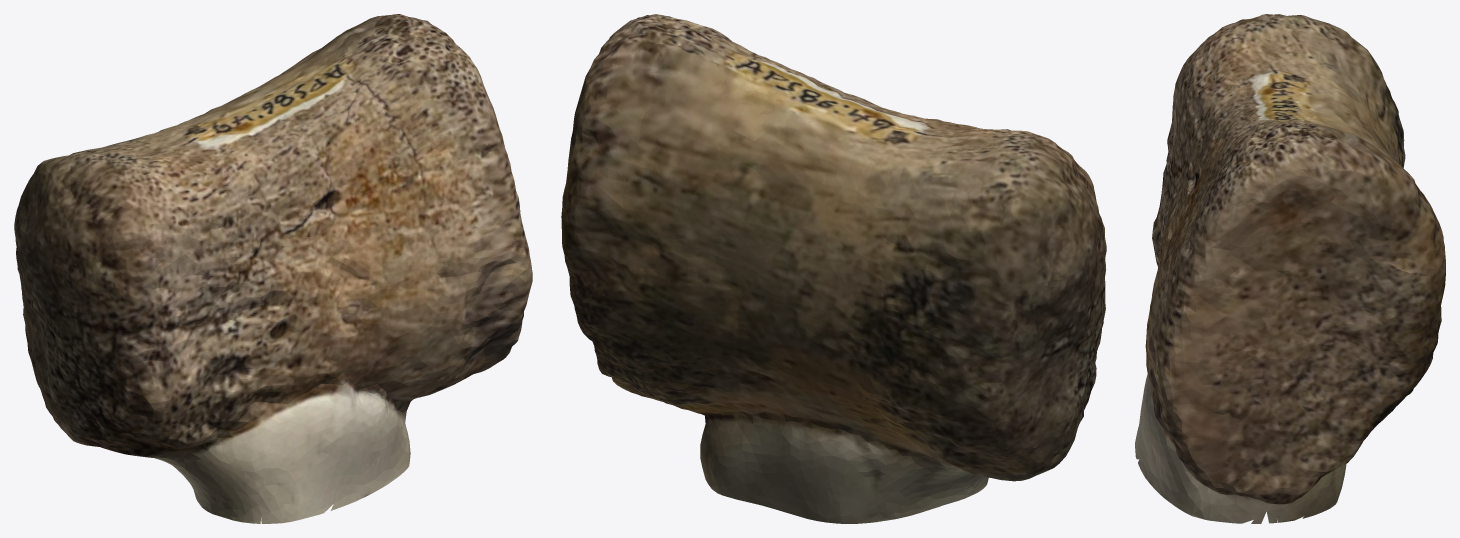
The model's file is APS.86.49B.glb.
3 views of the same model, side by side, from view 1: azimuth 30°, elevation 25°; view 2: azimuth 150°, elevation 25°; view 3: azimuth 270°, elevation 25° (orthographic). The views are drawn at different scales.
Size of the model in its own units: 0.0411 by 0.0347 by 0.024.
Materials: 1 (1 with a texture image).
